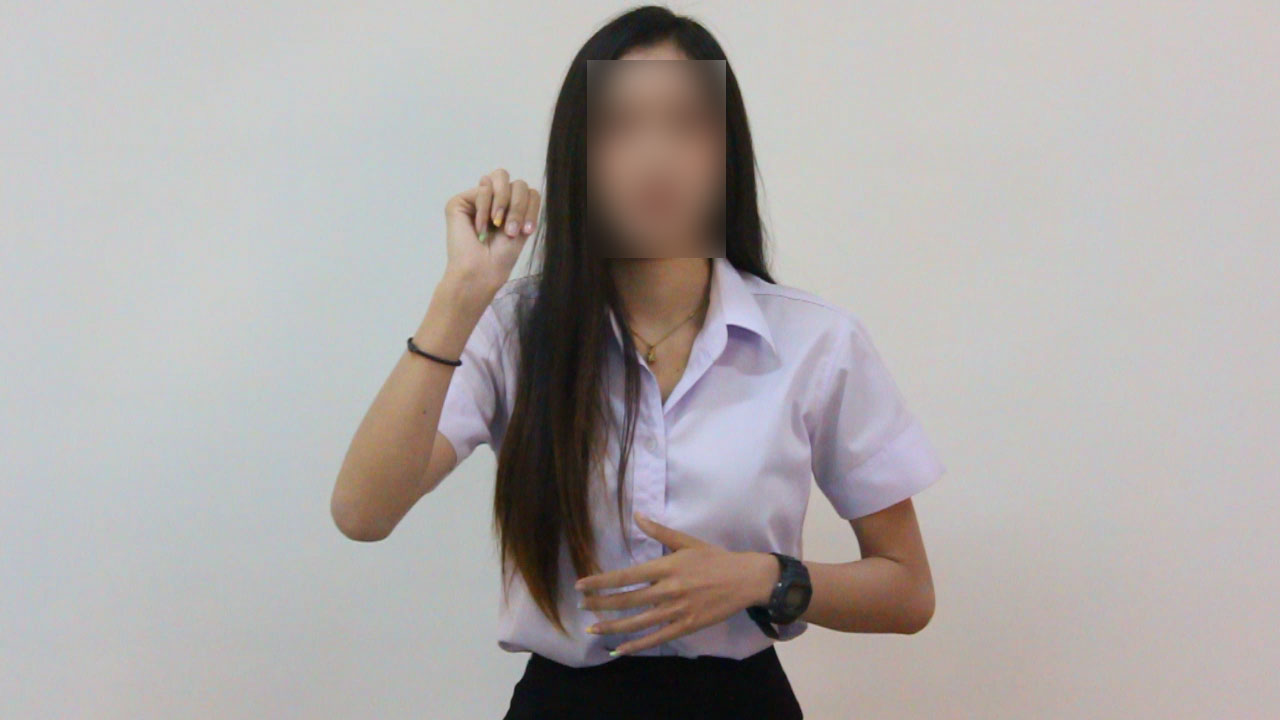mor: (417, 152, 555, 299)
